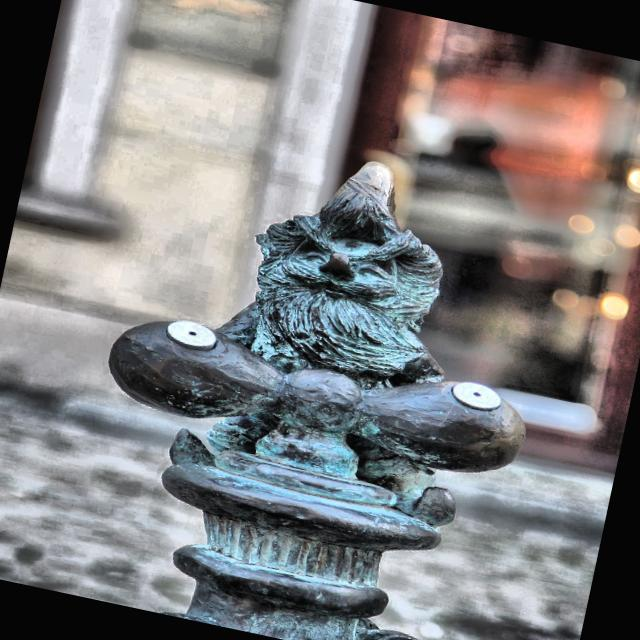Orzezwiacz: (107, 162, 526, 551)
